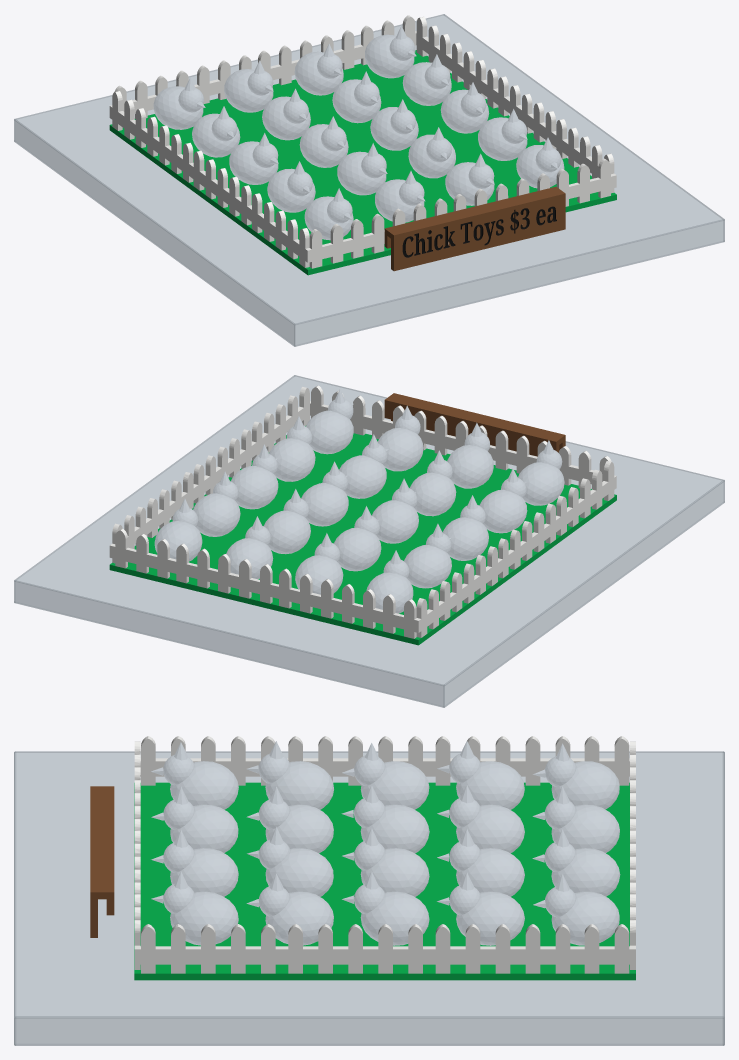
3 views of the same model, one above another, from view 1: azimuth 30°, elevation 25°; view 2: azimuth 150°, elevation 25°; view 3: azimuth 270°, elevation 25° (orthographic). The views are drawn at different scales.
Visible parts, largest first — view 1: shelf (display prop, not printed), coop_fence, coop_floor, coop_sign, shelf edges (display prop, not printed), chick_17 (display prop, not printed), chick_20 (display prop, not printed), chick_6 (display prop, not printed), chick_8 (display prop, not printed), chick_9 (display prop, not printed), chick_18 (display prop, not printed), chick_19 (display prop, not printed) (+14 smaller); view 2: shelf (display prop, not printed), coop_fence, coop_floor, shelf edges (display prop, not printed), coop_sign, chick_13 (display prop, not printed), chick_16 (display prop, not printed), chick_4 (display prop, not printed), chick_5 (display prop, not printed), chick_14 (display prop, not printed), chick_2 (display prop, not printed), chick_12 (display prop, not printed) (+13 smaller); view 3: shelf (display prop, not printed), coop_floor, coop_fence, shelf edges (display prop, not printed), coop_sign, chick_4 (display prop, not printed), chick_12 (display prop, not printed), chick_16 (display prop, not printed), chick_8 (display prop, not printed), chick_20 (display prop, not printed), chick_7 (display prop, not printed), chick_5 (display prop, not printed) (+13 smaller).
Part boxes in pixels (x1,y1,x2,y2): shelf (display prop, not printed): (15, 15, 723, 345); coop_fence: (109, 15, 616, 268); coop_floor: (109, 50, 616, 275); coop_sign: (384, 186, 565, 271); shelf edges (display prop, not printed): (14, 14, 724, 346); chick_17 (display prop, not printed): (153, 77, 205, 129); chick_20 (display prop, not printed): (365, 26, 416, 78); chick_6 (display prop, not printed): (337, 143, 387, 195); chick_8 (display prop, not printed): (478, 109, 527, 160); chick_9 (display prop, not printed): (229, 133, 278, 184); chick_18 (display prop, not printed): (224, 60, 273, 112); chick_19 (display prop, not printed): (294, 43, 343, 95); shelf (display prop, not printed): (15, 376, 723, 706); coop_fence: (109, 385, 616, 638); coop_floor: (109, 426, 616, 645); shelf edges (display prop, not printed): (14, 375, 724, 707); coop_sign: (384, 393, 565, 456); chick_13 (display prop, not printed): (404, 523, 451, 588); chick_16 (display prop, not printed): (193, 471, 240, 536); chick_4 (display prop, not printed): (306, 389, 353, 454); chick_5 (display prop, not printed): (479, 468, 527, 533); chick_14 (display prop, not printed): (334, 506, 381, 571); chick_2 (display prop, not printed): (447, 422, 493, 488); chick_12 (display prop, not printed): (231, 444, 278, 509); shelf (display prop, not printed): (15, 752, 723, 1044); coop_floor: (134, 782, 635, 980); coop_fence: (134, 736, 635, 973); shelf edges (display prop, not printed): (14, 751, 724, 1045); coop_sign: (90, 786, 114, 937); chick_4 (display prop, not printed): (151, 871, 238, 945); chick_12 (display prop, not printed): (342, 871, 429, 945); chick_16 (display prop, not printed): (437, 872, 524, 945); chick_8 (display prop, not printed): (246, 873, 333, 945); chick_20 (display prop, not printed): (533, 874, 619, 945); chick_7 (display prop, not printed): (247, 827, 333, 896); chick_5 (display prop, not printed): (246, 741, 333, 809).
Size of the model in its own units: 251 by 46.95 by 283.
